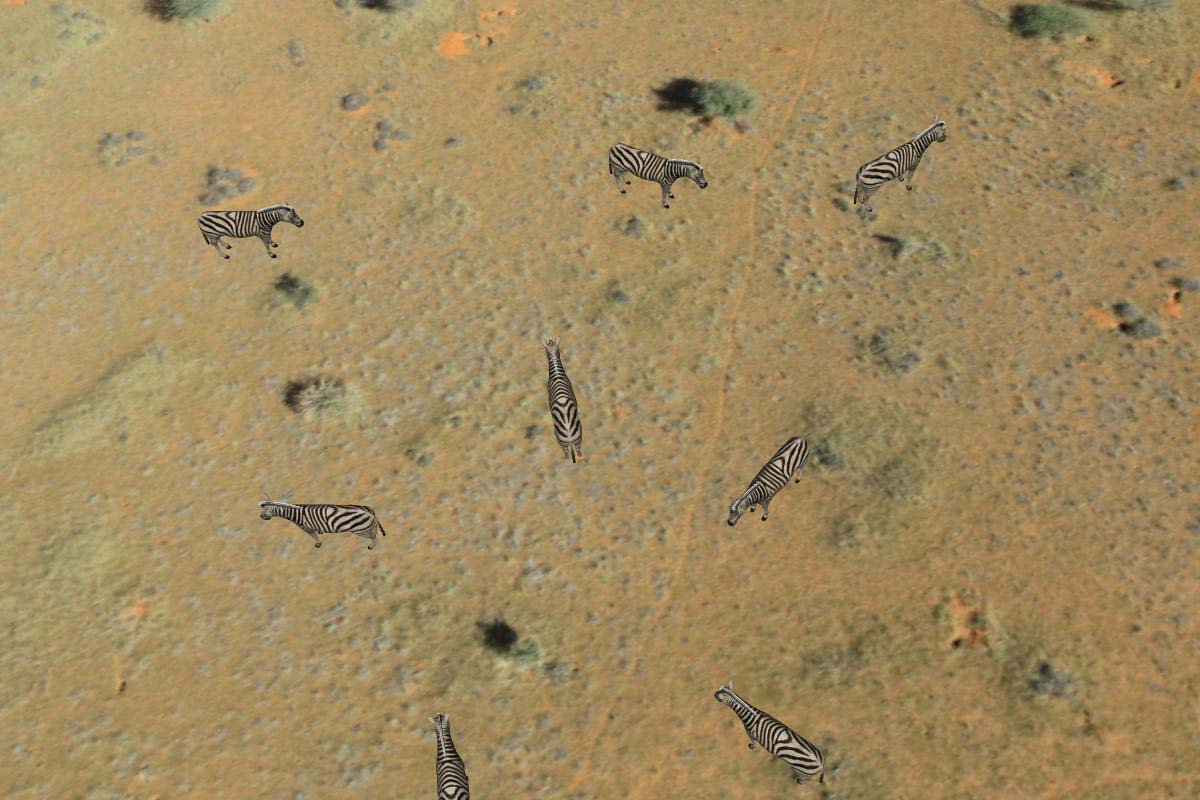zebra: (705, 667, 834, 796), (246, 490, 394, 552), (855, 108, 952, 202), (192, 187, 313, 262), (723, 427, 809, 529), (532, 321, 592, 467), (600, 135, 711, 212), (421, 700, 480, 800)
